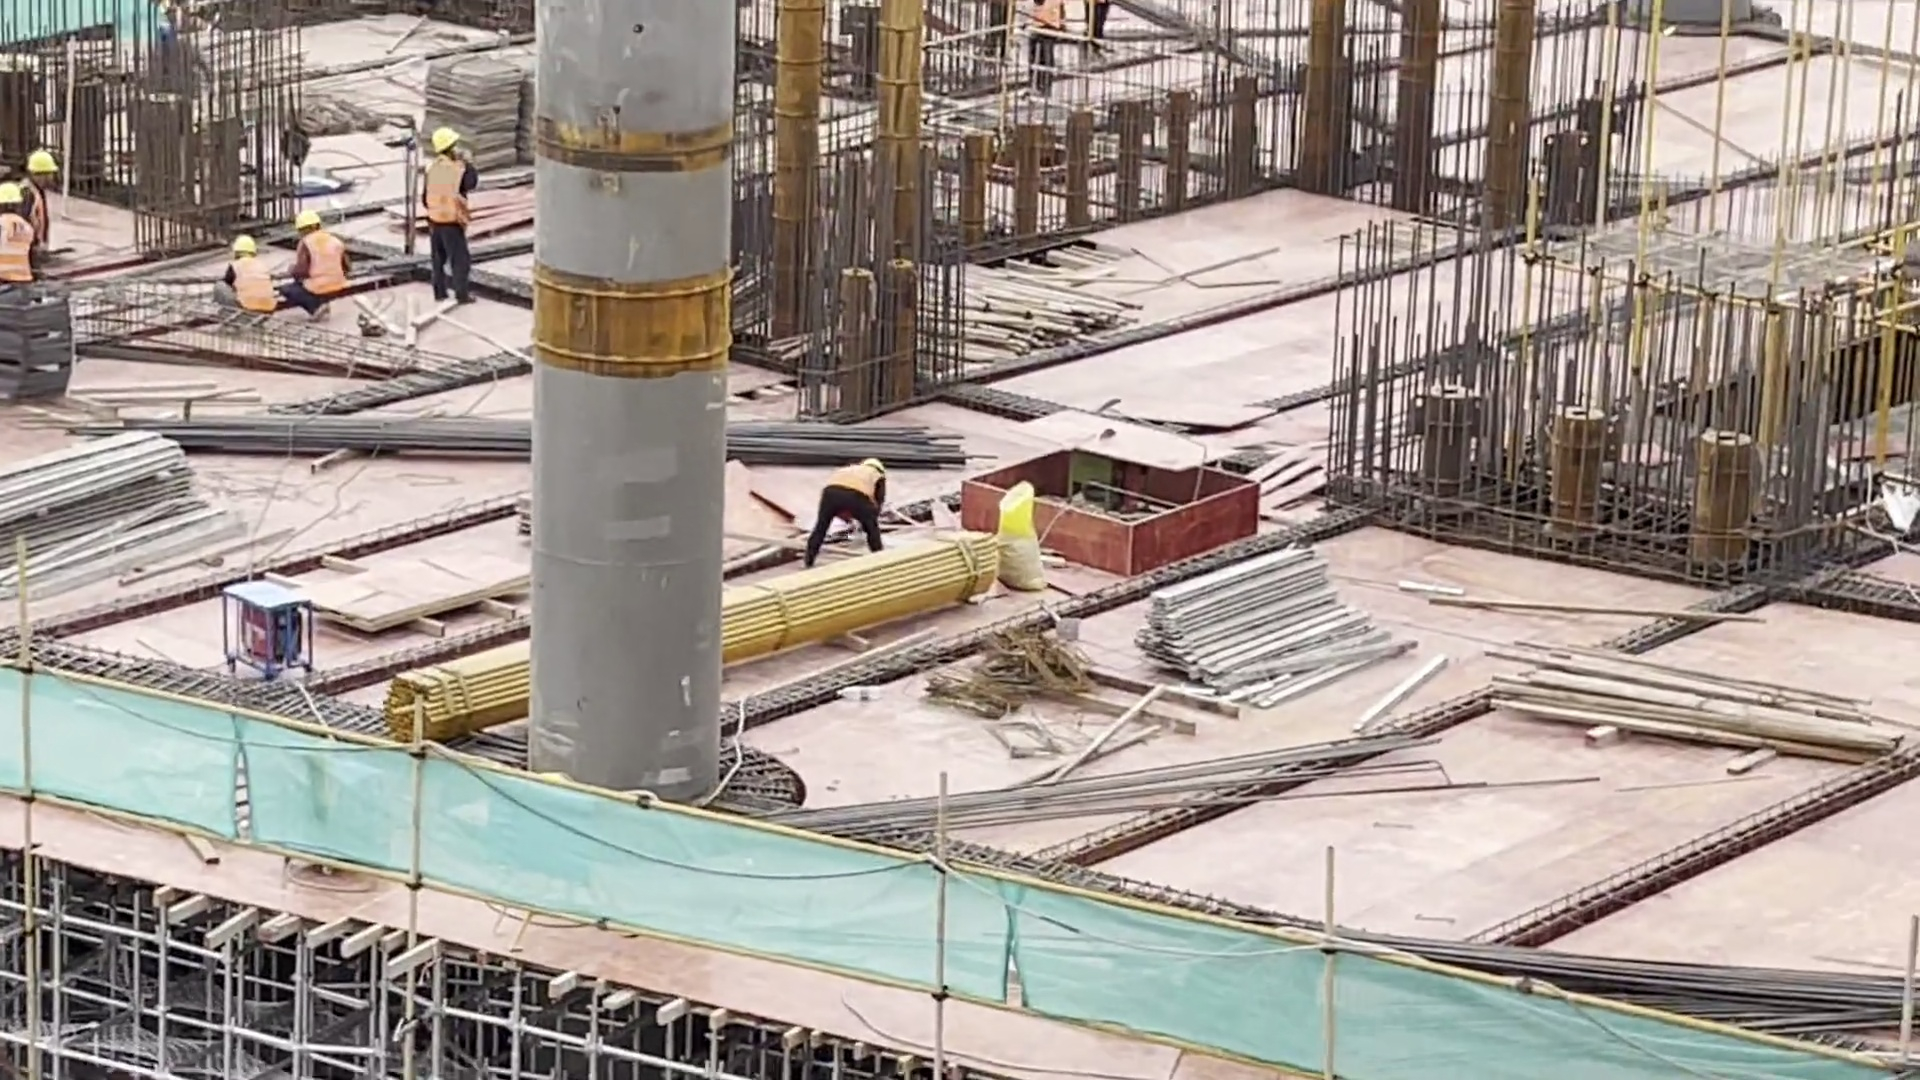helmet: (430, 128, 461, 158), (28, 149, 58, 174), (1, 181, 23, 207), (293, 210, 324, 227), (234, 237, 257, 256)
person: (420, 125, 478, 309), (805, 455, 889, 569), (282, 209, 351, 328), (215, 232, 277, 320), (1028, 1, 1068, 100), (1, 188, 28, 295), (28, 151, 54, 257), (1081, 1, 1108, 71)
vest: (298, 232, 350, 298), (423, 157, 470, 225), (230, 257, 278, 313), (1, 216, 39, 282), (825, 459, 888, 499)
